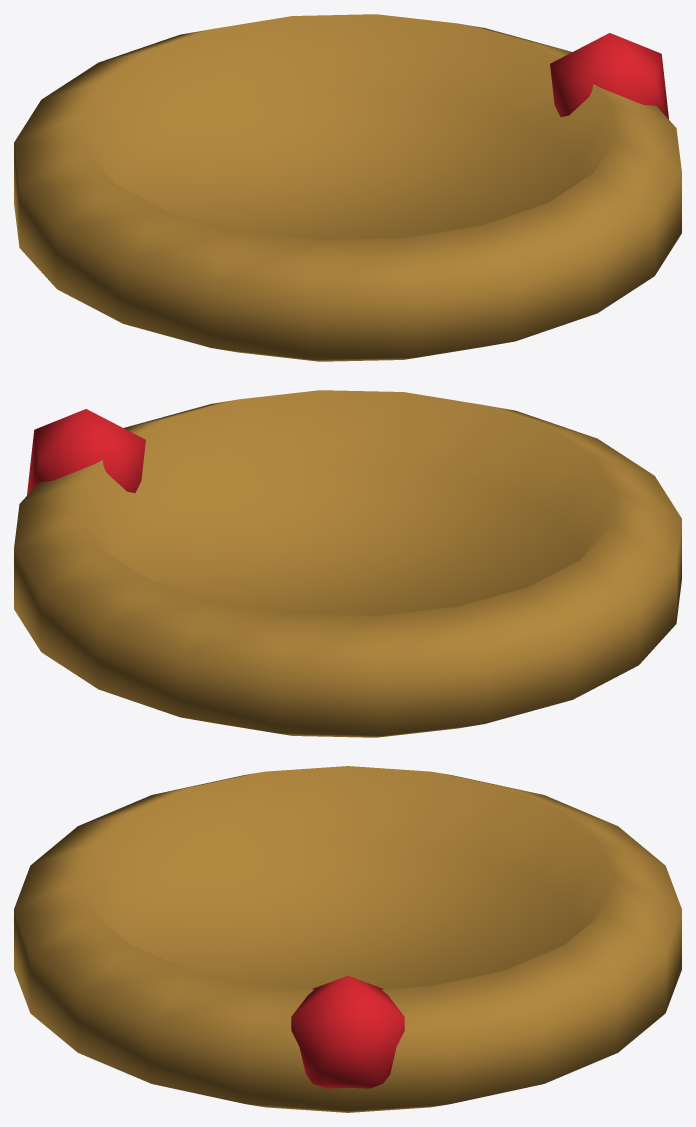
File: PRP_Bangle_A.glb
3 renders of one model, top to bottom at view 1: azimuth 30°, elevation 25°; view 2: azimuth 150°, elevation 25°; view 3: azimuth 270°, elevation 25°, orthographic.
Parts seen in each view (by area): view 1: PRP_Bangle_A_Mesh; view 2: PRP_Bangle_A_Mesh; view 3: PRP_Bangle_A_Mesh.
Boxes of the visible parts, left/top/right/bottom form: PRP_Bangle_A_Mesh: left=14, top=14, right=681, bottom=361; PRP_Bangle_A_Mesh: left=14, top=390, right=681, bottom=737; PRP_Bangle_A_Mesh: left=14, top=766, right=681, bottom=1112.
Bounding box in the file's own units: 0.0832 × 0.02 × 0.08.
